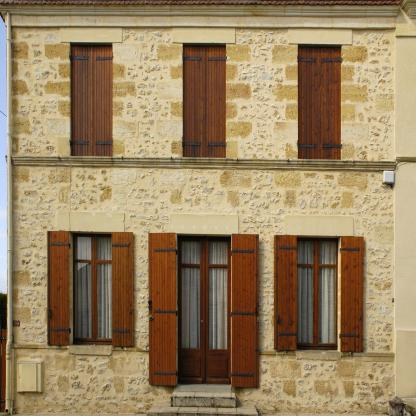Blind: (71, 45, 112, 158), (184, 45, 225, 158), (299, 45, 340, 158), (148, 232, 176, 385), (232, 234, 259, 386), (274, 235, 297, 350), (341, 237, 364, 352), (47, 231, 70, 346), (111, 232, 134, 347)
Building Outline: (0, 0, 416, 414)
Cornice: (284, 215, 354, 236), (57, 211, 125, 232), (171, 214, 239, 234), (172, 28, 236, 43), (288, 28, 352, 43), (60, 28, 122, 43)
Door: (178, 237, 231, 383)
Facade: (0, 0, 415, 413)
Floor Slab: (8, 181, 416, 191)
Ground Floor: (8, 190, 416, 413)
Molding: (0, 4, 400, 29), (5, 155, 396, 172)
Roof: (0, 0, 401, 5)
Sill: (295, 351, 341, 361), (68, 346, 111, 356)
Top Floor: (8, 4, 416, 181)
Window: (299, 45, 340, 158), (297, 238, 338, 351), (71, 45, 112, 158), (184, 45, 225, 158), (72, 233, 112, 346)
